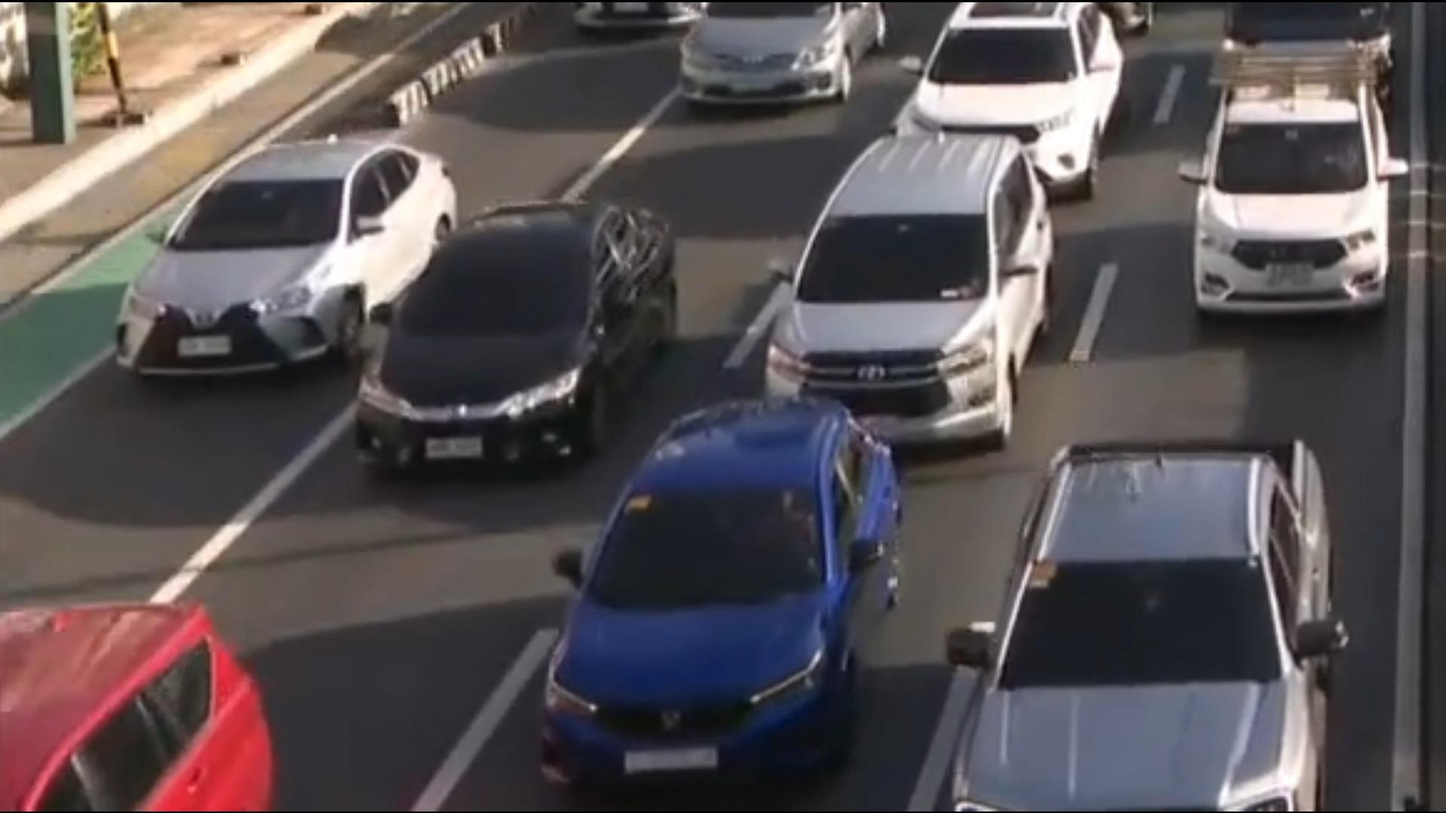Pickup: (928, 419, 1368, 813)
SUV: (735, 119, 1089, 480), (1155, 40, 1422, 320), (861, 0, 1143, 192)
Sedan: (507, 382, 934, 813), (21, 81, 473, 432), (301, 172, 712, 522)
